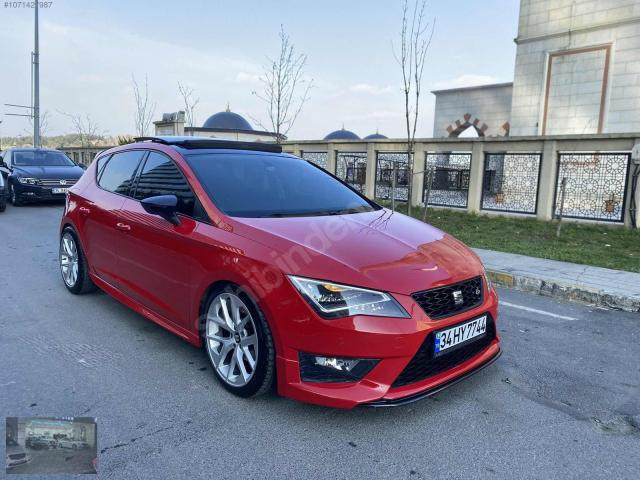plaka: (434, 314, 488, 358)
